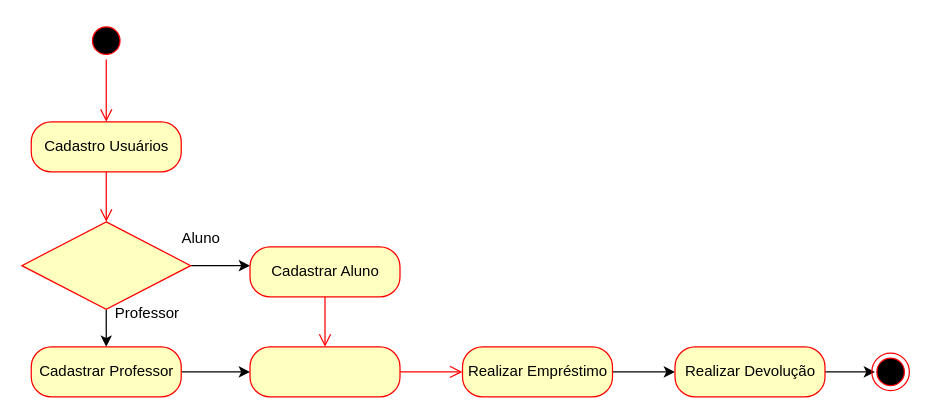
This 931x419 diagram has some shape labels left out. The shapes that lost their labels are listed below. From the top down, each one's box as (x1, y1, x2, y2) in pixels, then its label:
(21, 221, 191, 309): Professor ou Aluno
(249, 346, 400, 397): Consultar Livros
